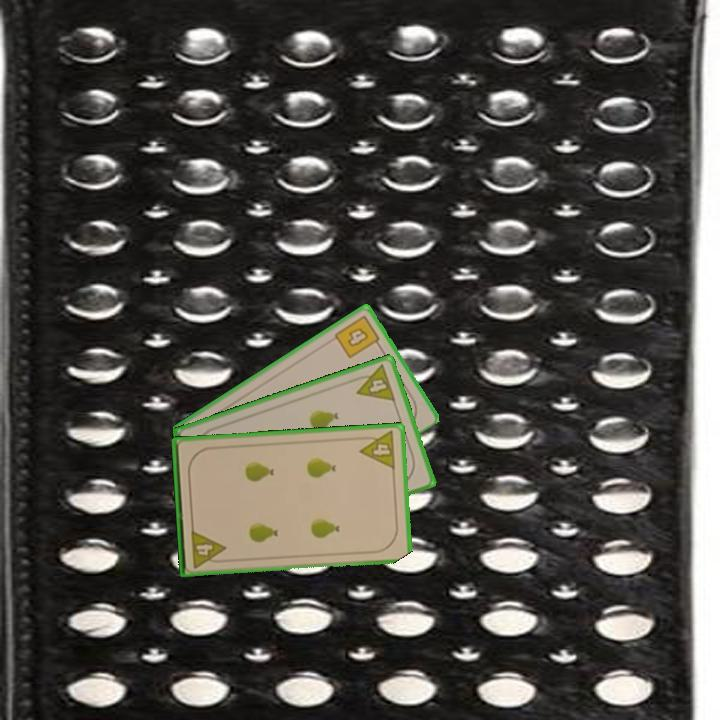4b: (331, 311, 385, 361)
4p: (349, 361, 398, 404), (356, 428, 398, 472), (187, 526, 228, 571)
